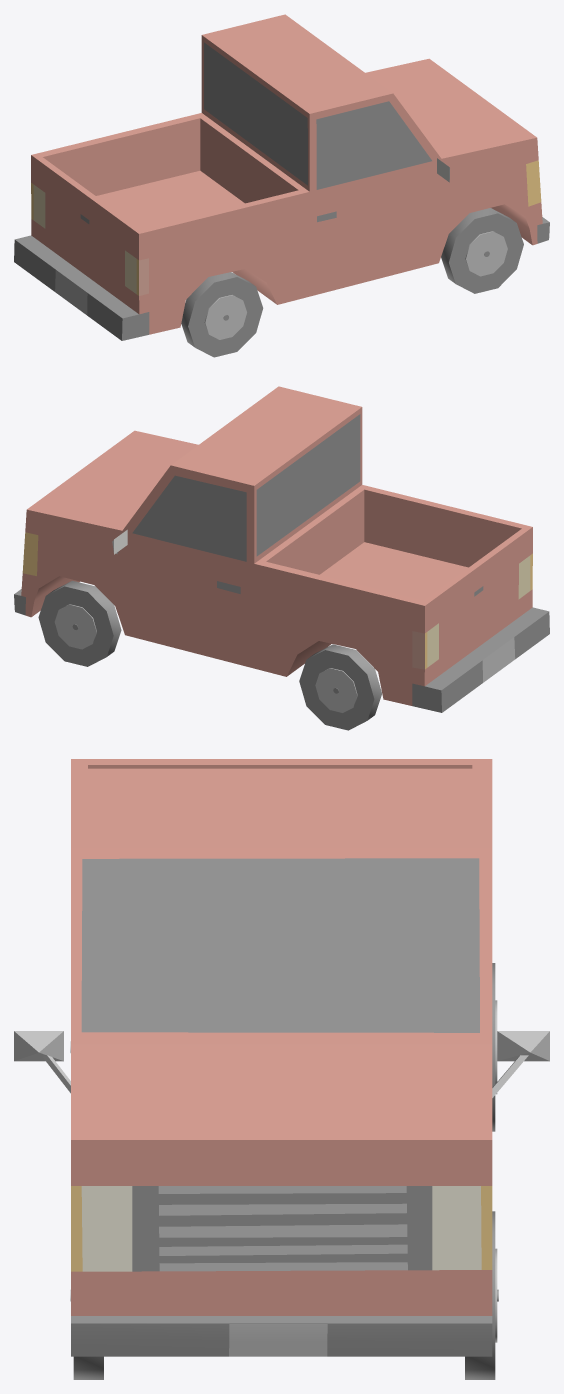
The model's file is kar_12.fbx.
The picture shows the model from 3 angles, top to bottom: view 1: azimuth 30°, elevation 25°; view 2: azimuth 150°, elevation 25°; view 3: azimuth 270°, elevation 25°; orthographic projection. The views are drawn at different scales.
Visible parts, largest first — view 1: Cube_1, Cylinder_6, Cylinder_9; view 2: Cube_1, Cylinder_8, Cylinder_7; view 3: Cube_1, Cylinder_7, Cylinder_8, Cylinder_6.
Boxes of the visible parts, x1,y1,x2,y2 form: Cube_1: [14, 14, 549, 340]; Cylinder_6: [441, 208, 523, 293]; Cylinder_9: [181, 272, 263, 357]; Cube_1: [14, 386, 549, 712]; Cylinder_8: [299, 644, 381, 730]; Cylinder_7: [38, 580, 121, 666]; Cube_1: [14, 759, 549, 1356]; Cylinder_7: [465, 1211, 498, 1379]; Cylinder_8: [492, 963, 497, 1131]; Cylinder_6: [70, 1290, 103, 1379].
Bounding box in the file's own units: 435 × 215 × 242.
